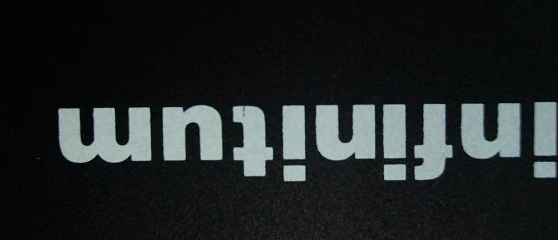BK_infinitum: (46, 91, 557, 181)
